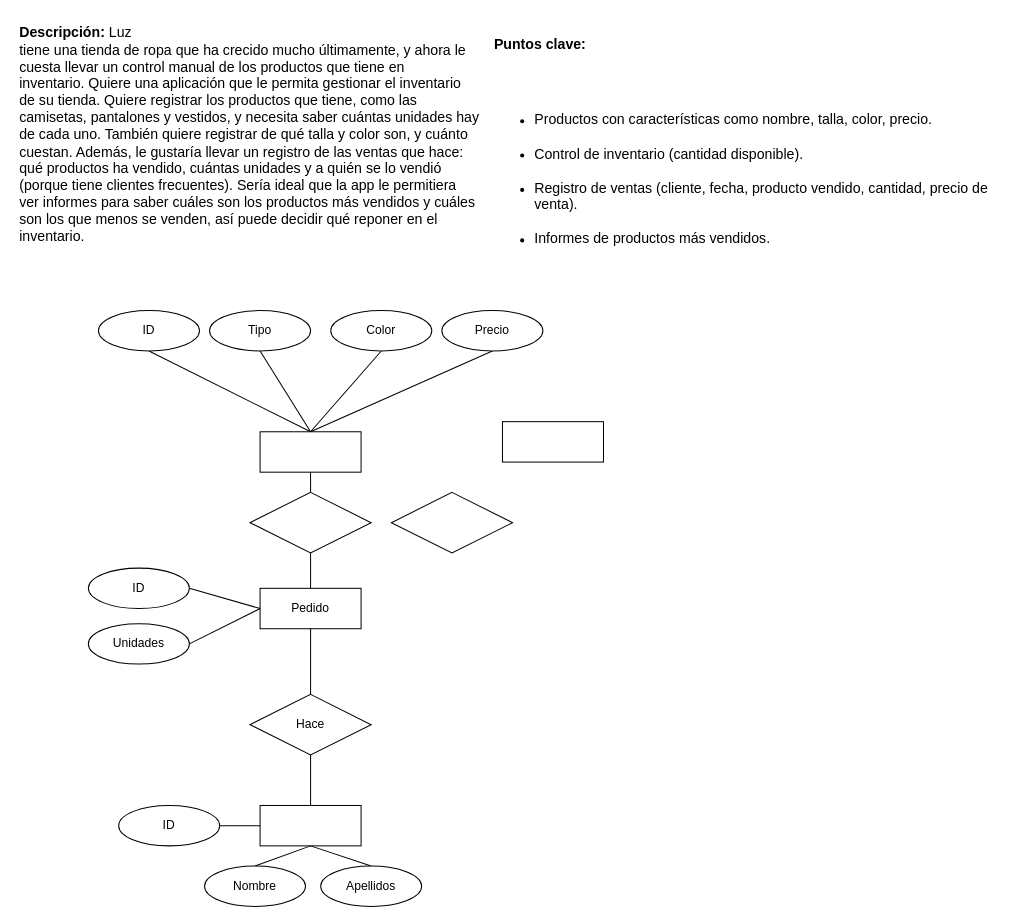
The diagram is 1014 pixels wide and 924 high, and some of its shapes have lost their labels. The shapes that lost their labels are listed below. From the top down, each one's box as (x1, y1, x2, y2) in pixels, then its label:
(259, 431, 361, 472): Producto (prenda)
(501, 421, 603, 462): Inventario
(249, 491, 371, 553): Contiene
(390, 491, 513, 553): pplñlñlñiñl
(259, 804, 361, 846): Cliente
